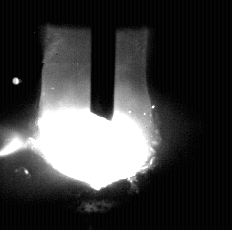arame: (92, 0, 115, 121)
poca: (37, 0, 160, 230)
